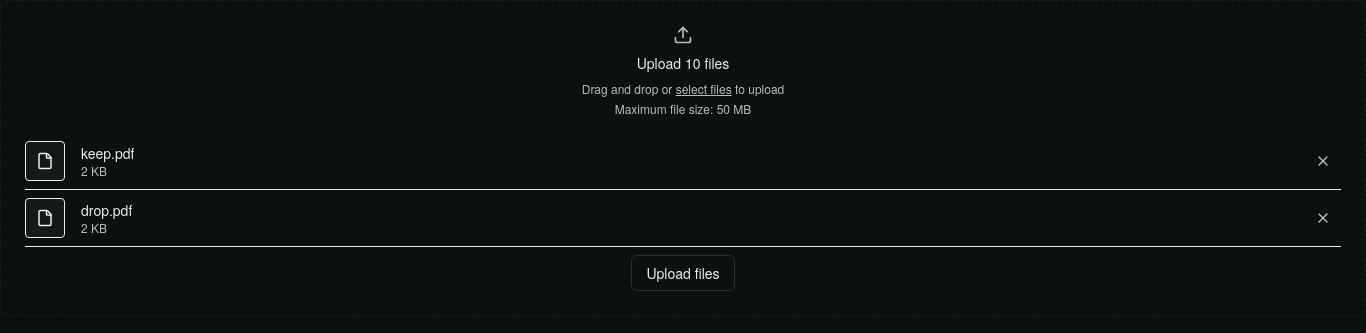
the files waiting to be uploaded › takes a file off the list when it is removed
Step 1. Click the button without text in the row of "drop.pdf" → (1323, 218), box [1305,200,1341,236]
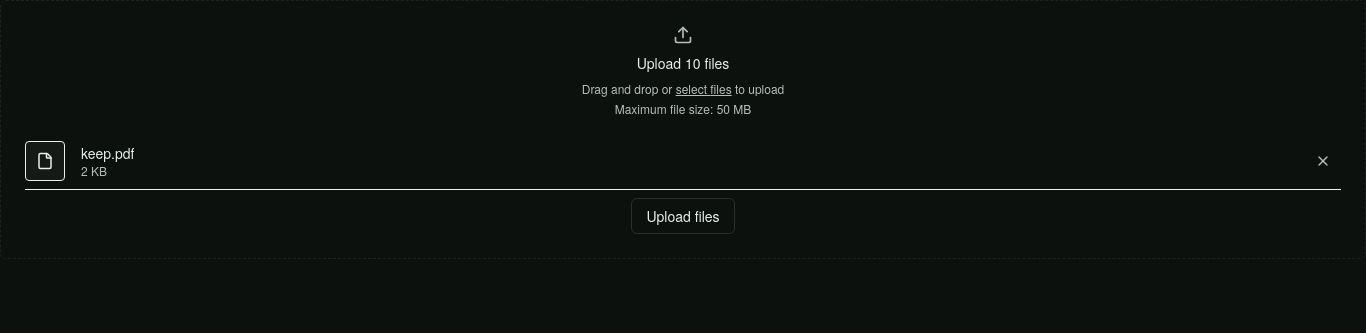
Expected: the text "keep.pdf" is shown, [81,143,134,163]
Expected: the text "drop.pdf" is gone
